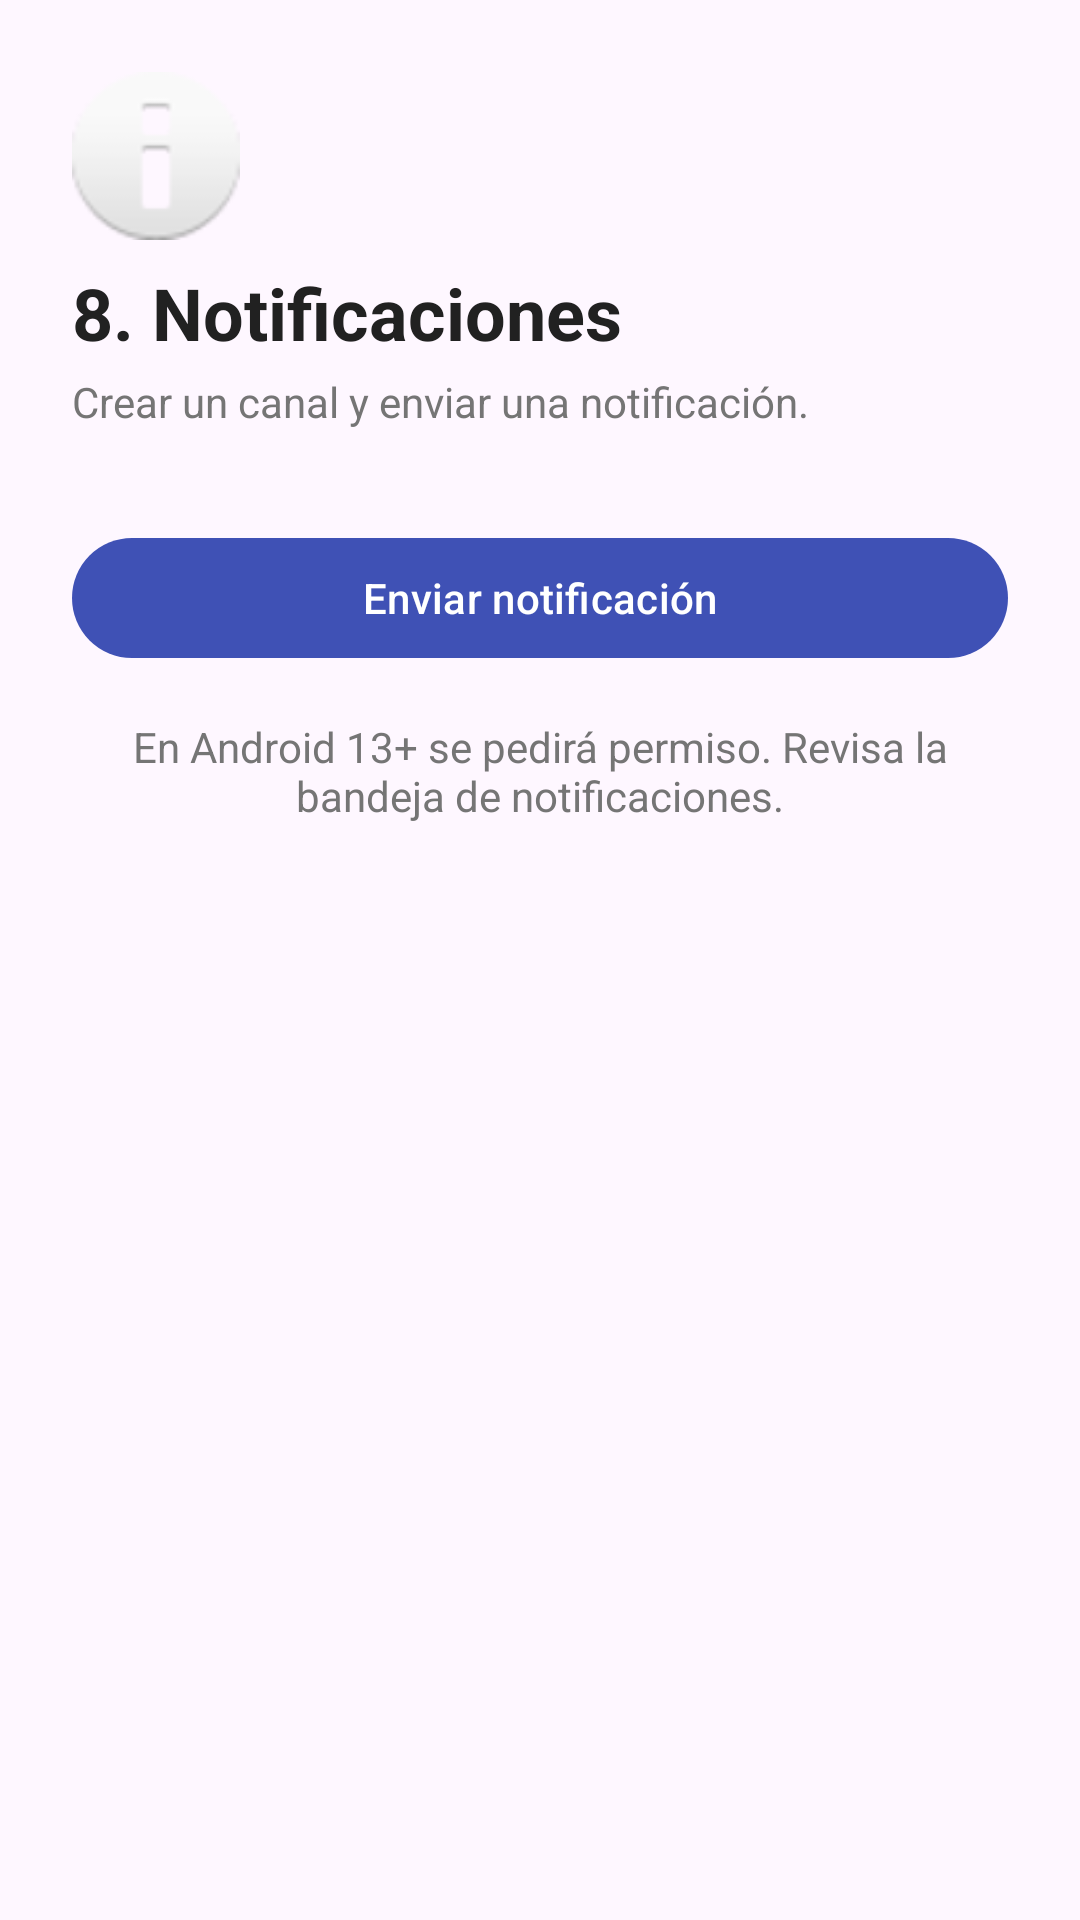

Where to tap for icons on this 1080w x 1920h app screen, as (x=x, y=y):
info: (x=156, y=171)
